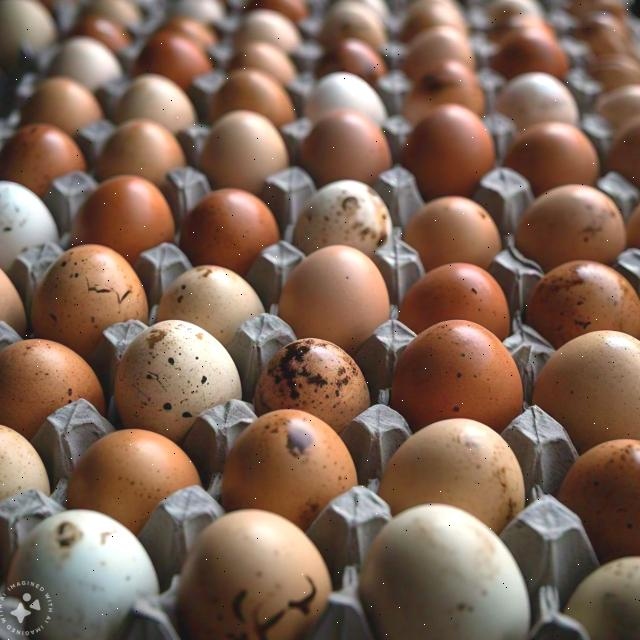Brown Egg: (209, 102, 298, 215), (284, 249, 394, 334), (298, 116, 408, 184), (105, 118, 192, 194)
Dirt Stained Egg: (175, 510, 321, 640), (105, 298, 231, 420), (397, 312, 522, 433), (230, 418, 365, 513), (254, 336, 358, 428), (0, 332, 94, 430)
